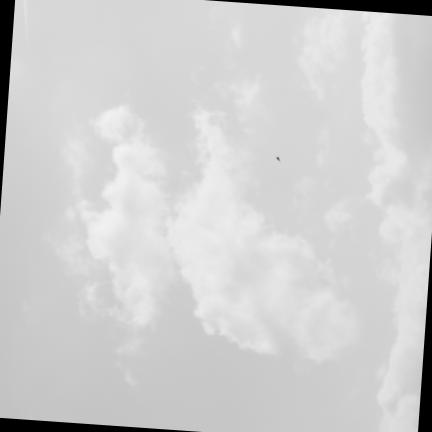Shahed: (275, 155, 281, 161)
